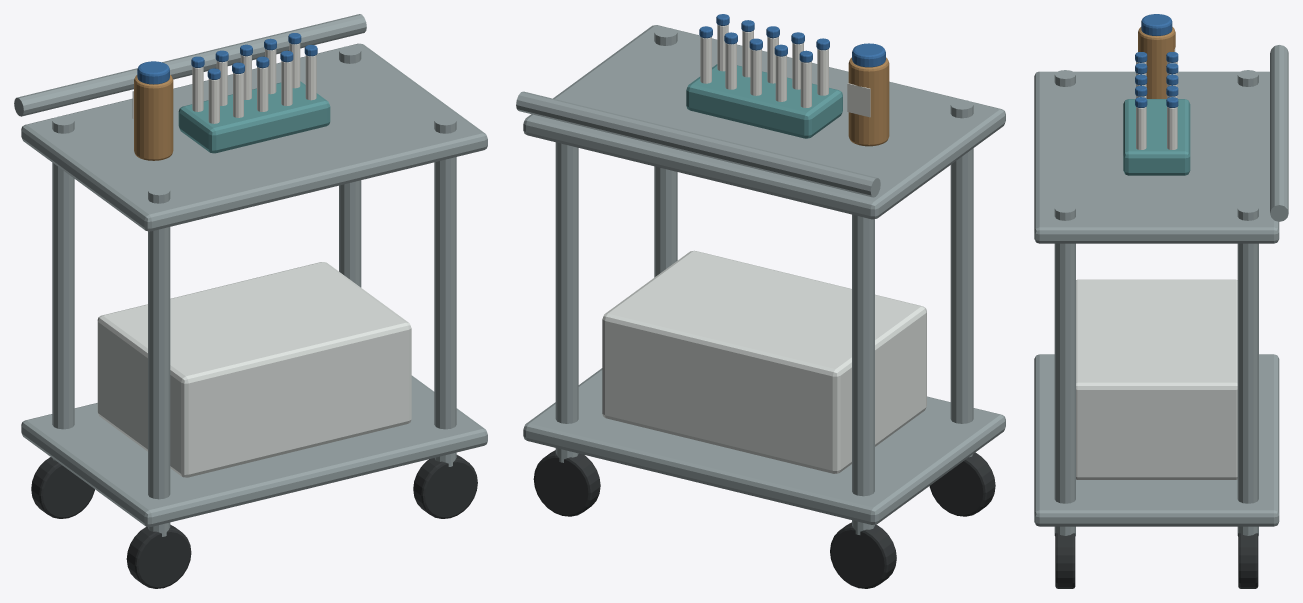
The model's file is LabCart.fbx.
3 views of the same model, side by side, from view 1: azimuth 30°, elevation 25°; view 2: azimuth 150°, elevation 25°; view 3: azimuth 270°, elevation 25° (orthographic). The views are drawn at different scales.
Visible parts, largest first — view 1: LabCart; view 2: LabCart; view 3: LabCart.
Part boxes in pixels (x1,y1,x2,y2): LabCart: (14,14,487,588); LabCart: (516,14,1005,588); LabCart: (1034,14,1288,588).
Size of the model in its own units: 85 by 112 by 57.1.
